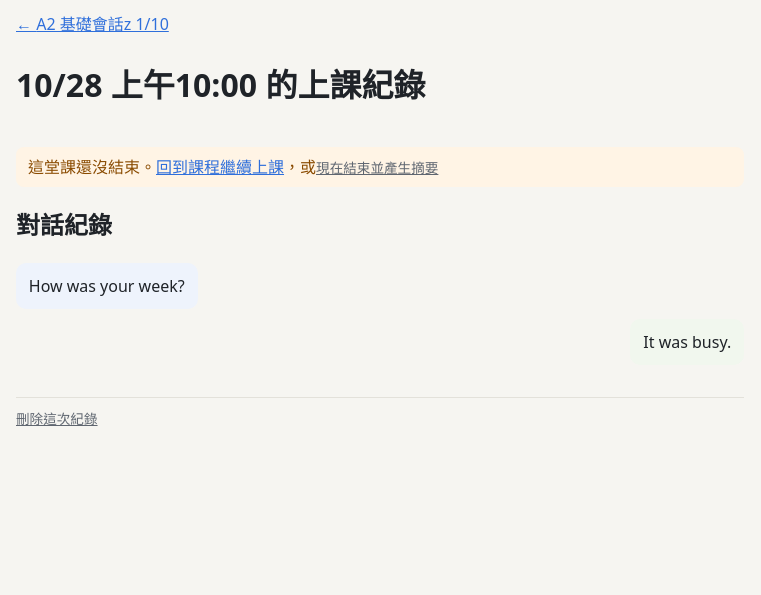
Test case: session review › generates a missing summary for an unfinished session
Click the button "現在結束並產生摘要": point(377, 168) [316,158,438,178]
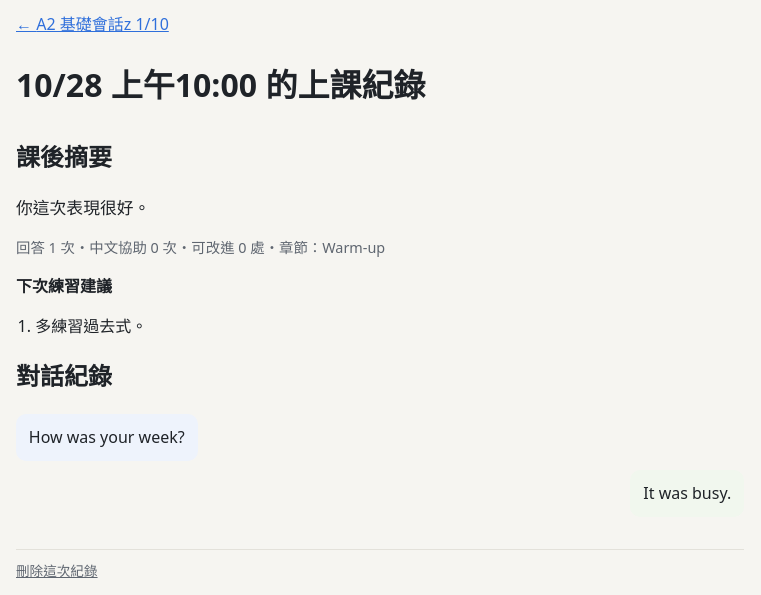
Expected: the text "你這次表現很好。" is shown, [16,196,150,219]
